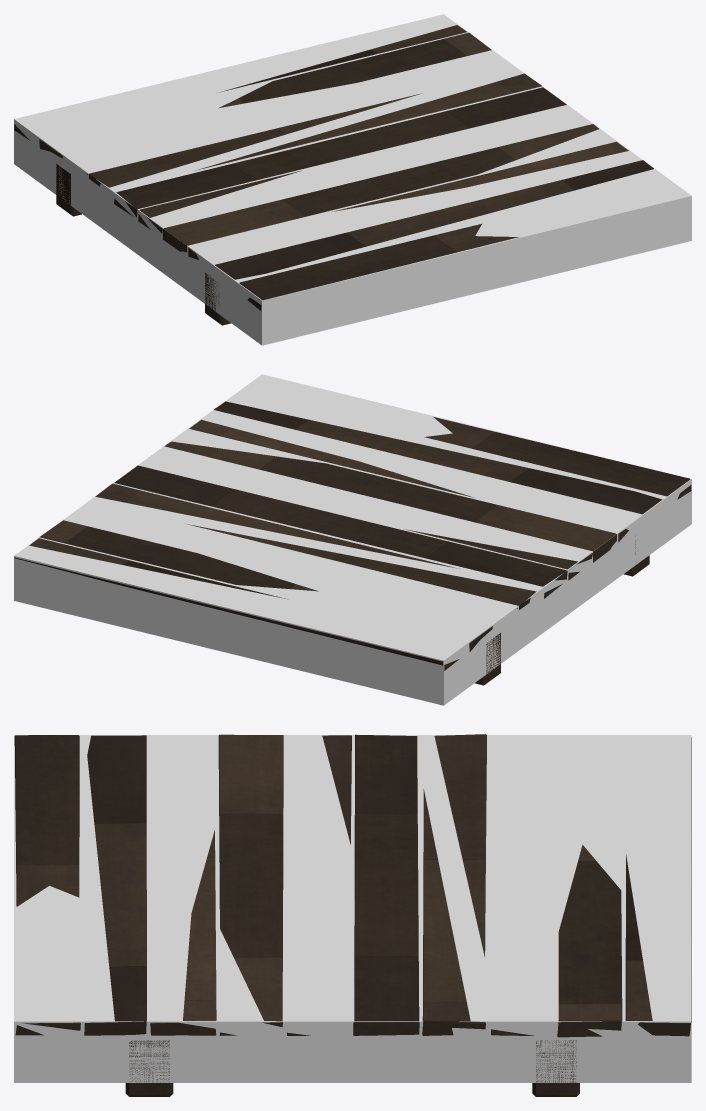
Rendered from ak_floor_plank_2x2.glb.
3 views of the same model, one above another, from view 1: azimuth 30°, elevation 25°; view 2: azimuth 150°, elevation 25°; view 3: azimuth 270°, elevation 25° (orthographic). The views are drawn at different scales.
Parts seen in each view (by area): view 1: col_floor, floor; view 2: col_floor, floor; view 3: col_floor, floor.
Part boxes in pixels (x1,y1,x2,y2): col_floor: (14, 14, 691, 345); floor: (14, 25, 653, 325); col_floor: (14, 374, 691, 705); floor: (14, 401, 691, 685); col_floor: (14, 735, 691, 1082); floor: (14, 734, 691, 1096).
Size of the model in its own units: 2.01 by 0.2535 by 2.
2 materials, 2 textured.
